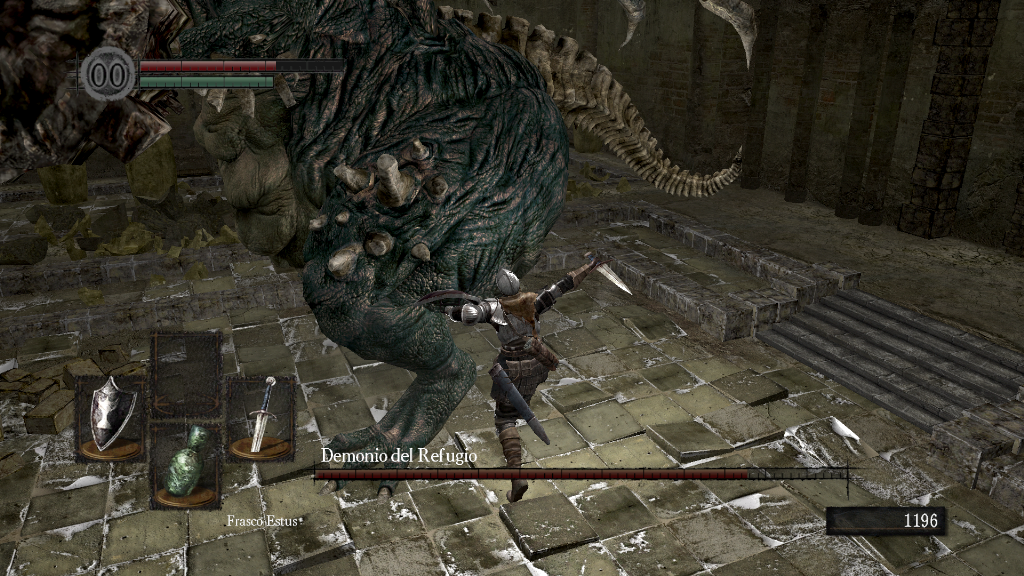asylumDemon: (1, 1, 750, 504)
bossHP: (314, 469, 847, 479)
health: (138, 58, 343, 71)
humanity: (80, 45, 136, 102)
player: (414, 251, 635, 506)
souls: (825, 506, 945, 536)
stamina: (138, 74, 274, 88)
